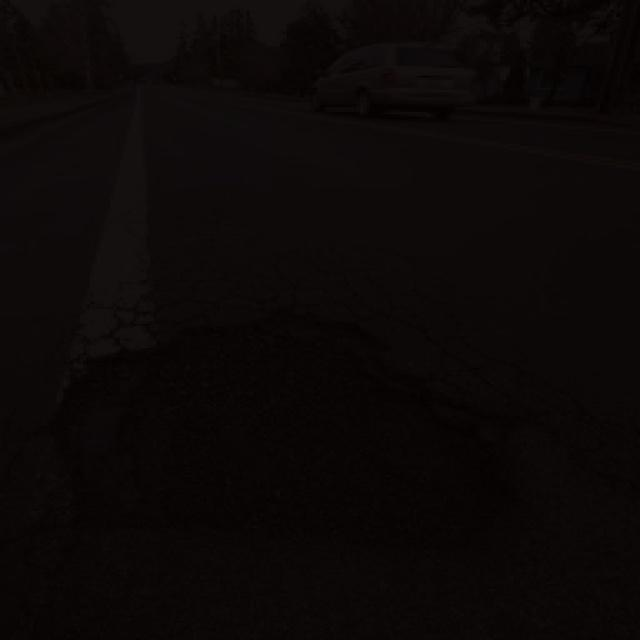Pothole: (41, 295, 518, 561)
